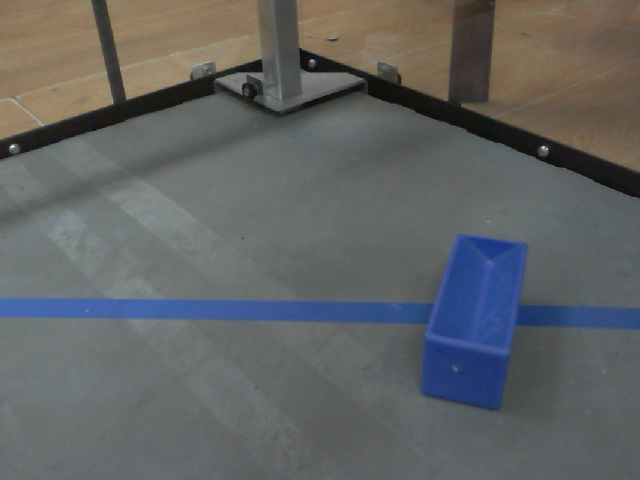BlueSample: (418, 229, 533, 416)
